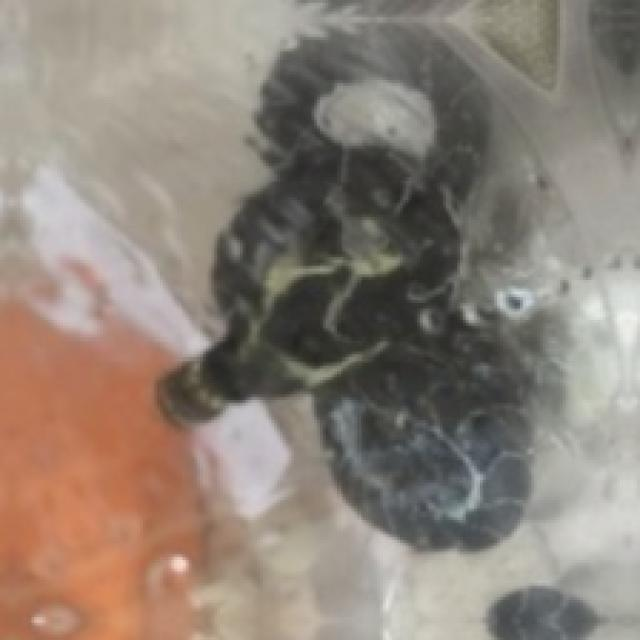king cobra: (160, 0, 637, 546)
